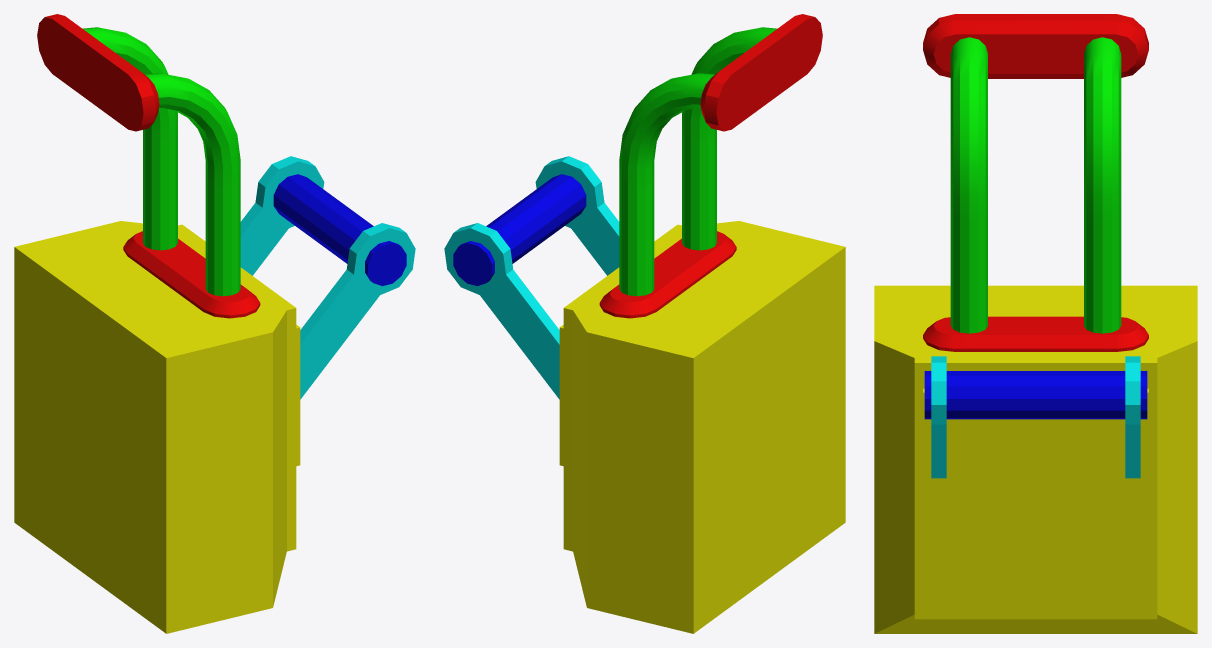
Rendered from Lever_SM.fbx.
3 views of the same model, side by side, from view 1: azimuth 30°, elevation 25°; view 2: azimuth 150°, elevation 25°; view 3: azimuth 270°, elevation 25° (orthographic). The views are drawn at different scales.
Parts seen in each view (by area): view 1: polySurface23; view 2: polySurface23; view 3: polySurface23.
Boxes of the visible parts, x1=… form: polySurface23: x1=14, y1=14, x2=415, y2=633; polySurface23: x1=444, y1=14, x2=845, y2=633; polySurface23: x1=874, y1=14, x2=1197, y2=633.
Bounding box in the file's own units: 2.1 × 3.86 × 2.
